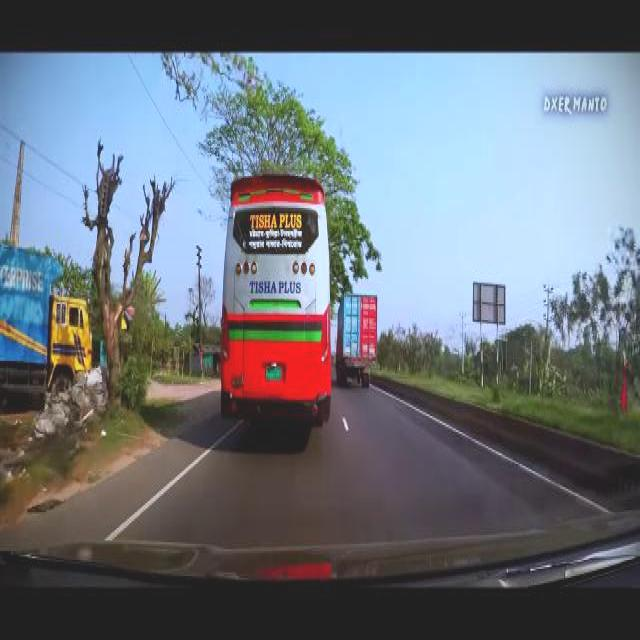BUS: (218, 174, 333, 444)
TRUCK: (342, 291, 378, 385)
